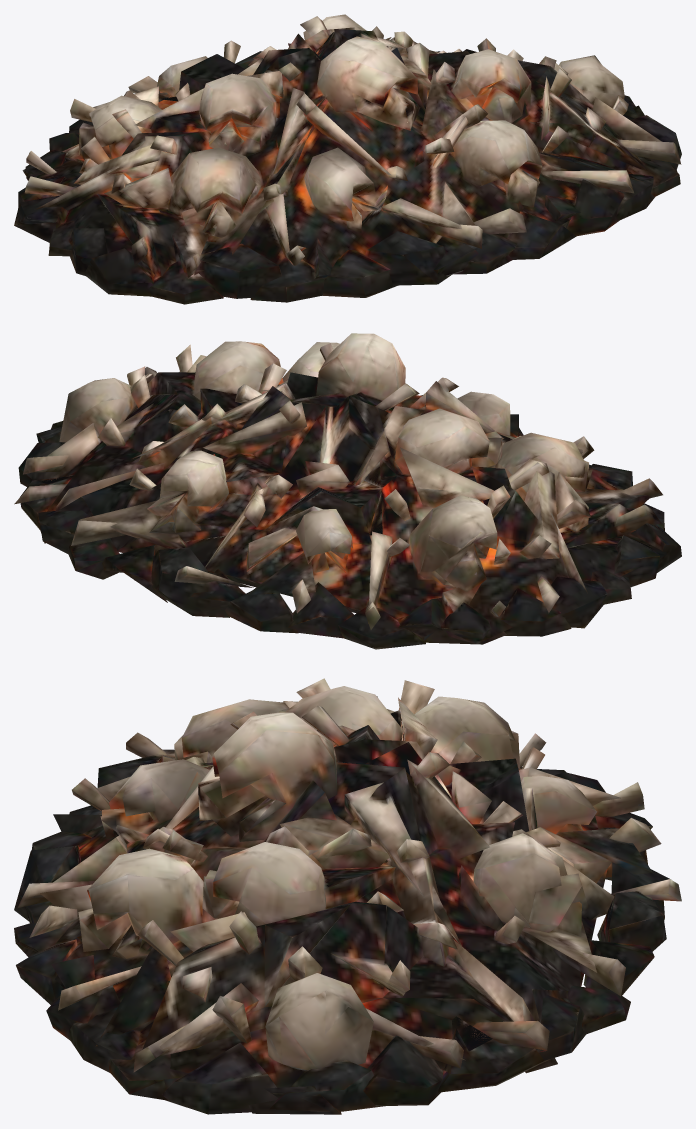
Rendered from skull-pile-a.glb.
3 views of the same model, one above another, from view 1: azimuth 30°, elevation 25°; view 2: azimuth 150°, elevation 25°; view 3: azimuth 270°, elevation 25° (orthographic). The views are drawn at different scales.
Visible parts, largest first — view 1: mesh_node; view 2: mesh_node; view 3: mesh_node.
Part boxes in pixels (bbox=[...]): mesh_node: bbox=[14, 14, 681, 304]; mesh_node: bbox=[14, 333, 681, 649]; mesh_node: bbox=[14, 678, 681, 1114].
Size of the model in its own units: 0.998 by 0.2803 by 0.7695.
Materials: 1 (1 with a texture image).
